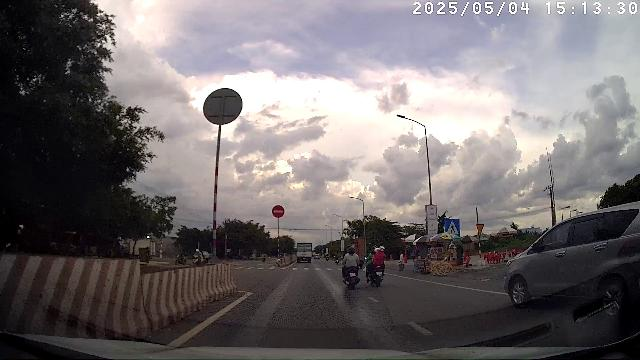102-cam-di-nguoc-chieu: (272, 205, 285, 218)
423a-duong-nguoi-di-bo-sang-ngang-1: (445, 219, 460, 235)
